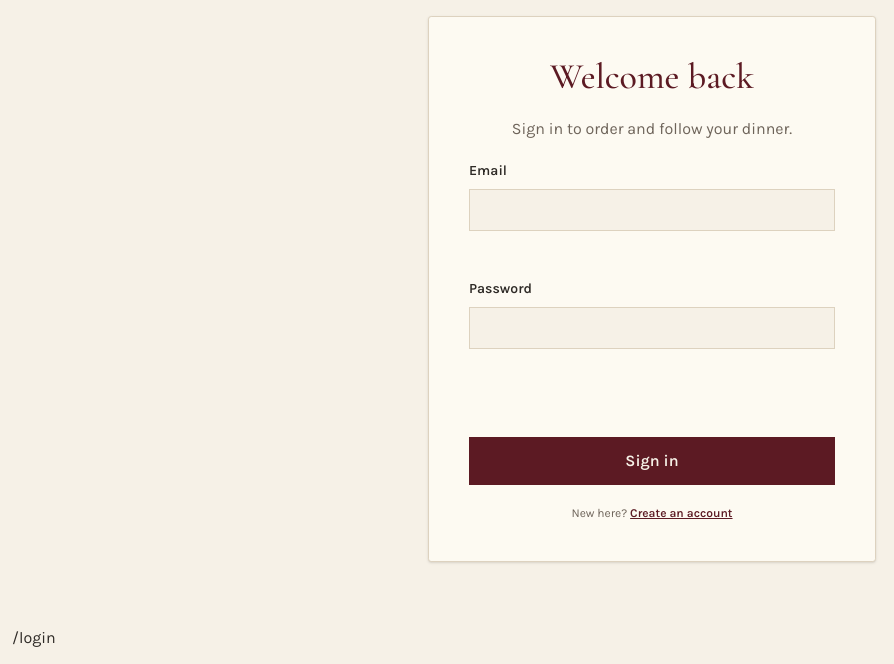
Test: LoginPage › says so when the password is wrong, and stays on the page
Step 1. Type "mari@example.com" into the field labelled "Email" → [652, 210], box [469,189,835,231]
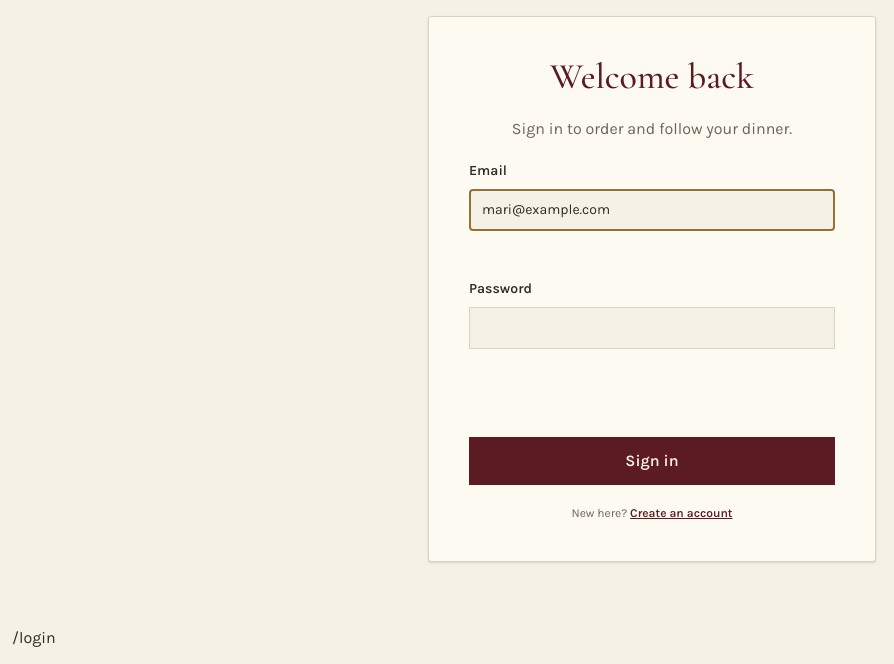
Step 2. Type "wrong" into the password field labelled "Password" → [652, 328], box [469,307,835,349]
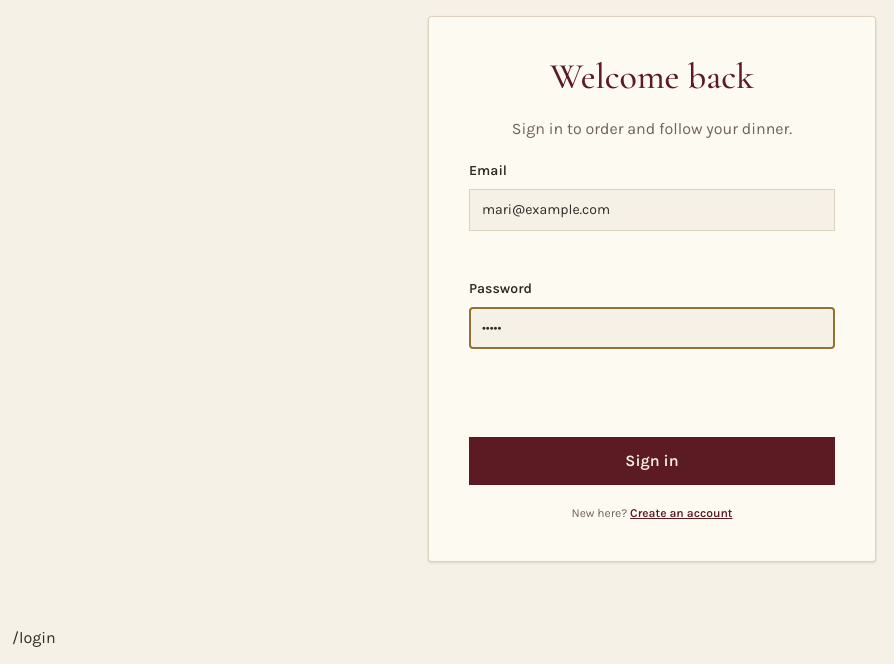
Step 3. Click the button "Sign in" → [652, 461], box [469,437,835,485]
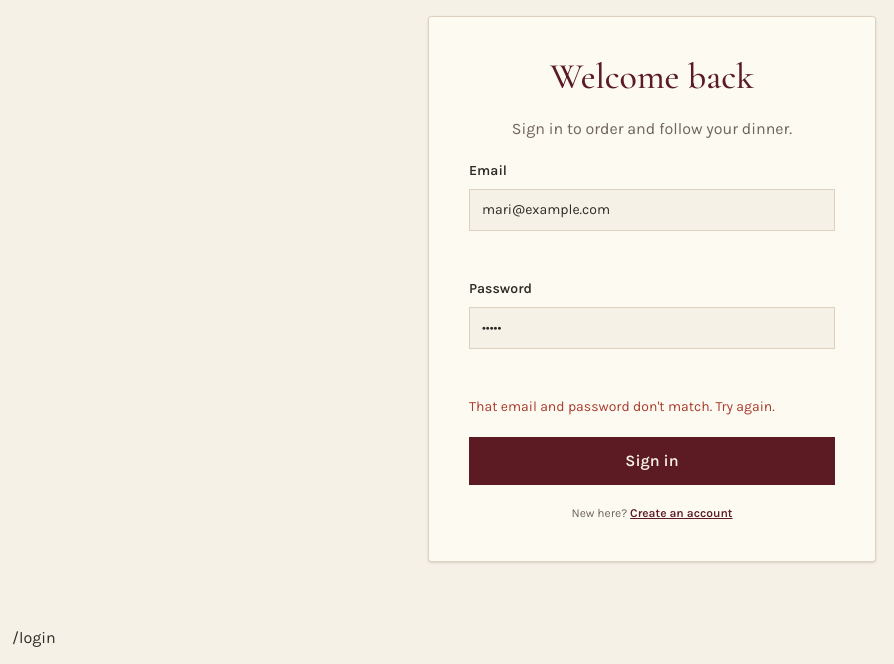
Expected: the text with test id "location" reads "/login", [12,628,56,647]
Expected: the message reads "That email and password don't match. Try again.", [469,398,775,415]
